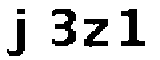1: (118, 6, 149, 52)
3: (45, 6, 75, 52)
j: (1, 8, 34, 58)
z: (82, 17, 112, 50)
